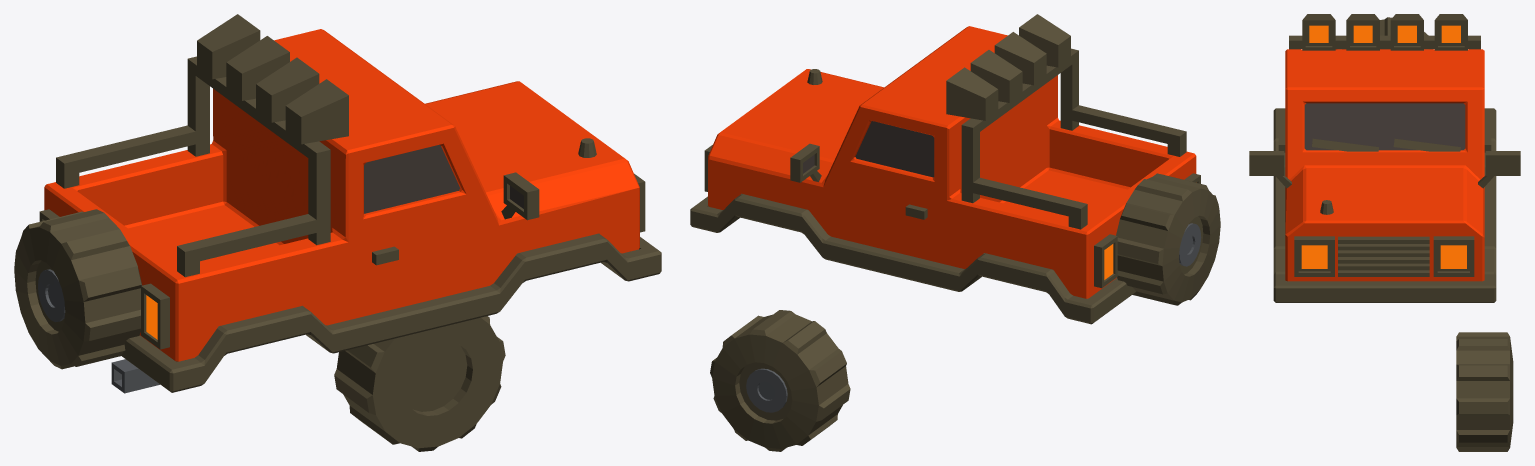
Rendered from oldSchool.glb.
3 views of the same model, side by side, from view 1: azimuth 30°, elevation 25°; view 2: azimuth 150°, elevation 25°; view 3: azimuth 270°, elevation 25° (orthographic). The views are drawn at different scales.
Visible parts, largest first — view 1: bodyPainted, bodyBlack.002, wheel; view 2: bodyPainted, bodyBlack.002, wheel; view 3: bodyPainted, bodyBlack.002, wheel, headlights.002.
Part boxes in pixels (<box>): bodyPainted: <box>44,29,639,361</box>; bodyBlack.002: <box>14,14,661,393</box>; wheel: <box>334,316,505,451</box>; bodyPainted: <box>708,26,1196,298</box>; bodyBlack.002: <box>690,14,1220,324</box>; wheel: <box>710,310,850,451</box>; bodyPainted: <box>1285,49,1484,281</box>; bodyBlack.002: <box>1249,14,1520,302</box>; wheel: <box>1456,332,1513,451</box>; headlights.002: <box>1301,25,1466,268</box>.
Size of the model in its own units: 3.26 by 2.75 by 1.9.
3 materials, 1 textured.
